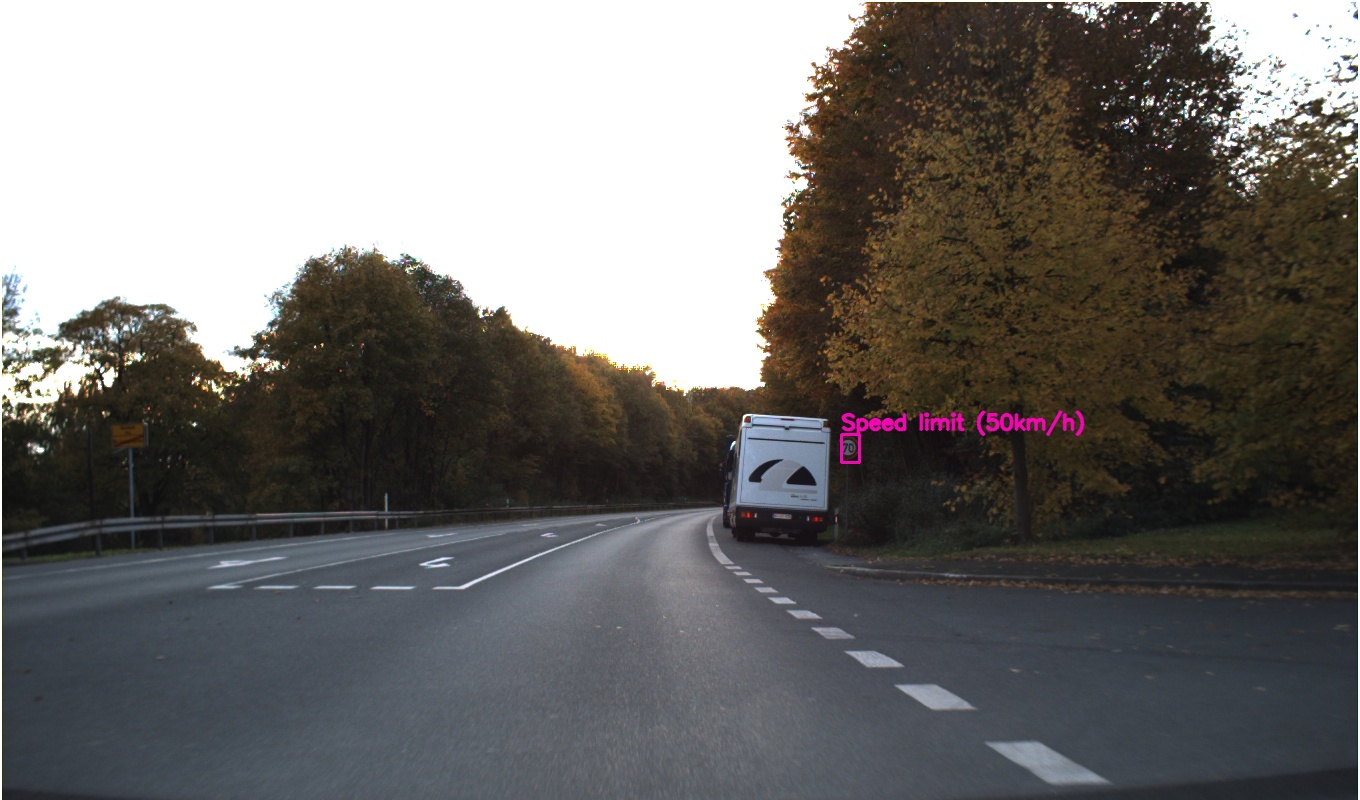Keep right: (438, 500, 496, 558)
No entry: (99, 425, 131, 466)
